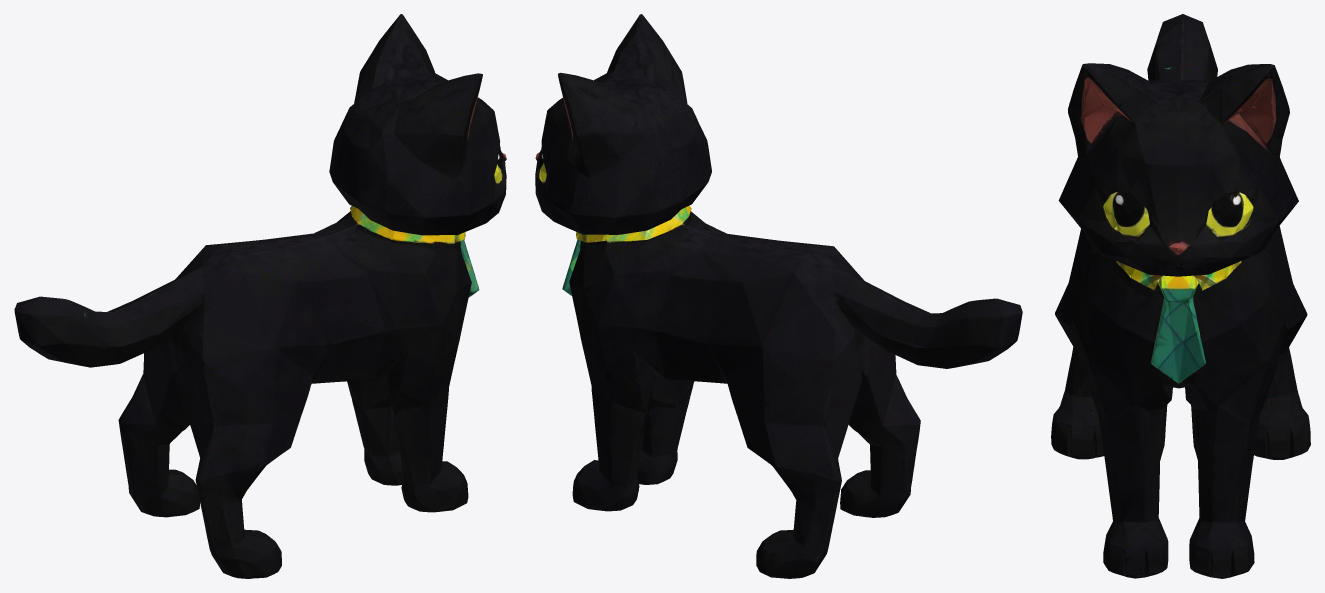
The model's file is TARTANPAW.glb.
The picture shows the model from 3 angles, left to right: view 1: azimuth 30°, elevation 25°; view 2: azimuth 150°, elevation 25°; view 3: azimuth 270°, elevation 25°; orthographic projection. The views are drawn at different scales.
Visible parts, largest first — view 1: fit; view 2: fit; view 3: fit.
Boxes of the visible parts, box(x1,y1,x2,y2) form: fit: box(14, 14, 506, 578); fit: box(535, 14, 1022, 578); fit: box(1051, 14, 1310, 578).
Size of the model in its own units: 1.16 by 0.9999 by 0.4582.
1 material, 1 textured.
